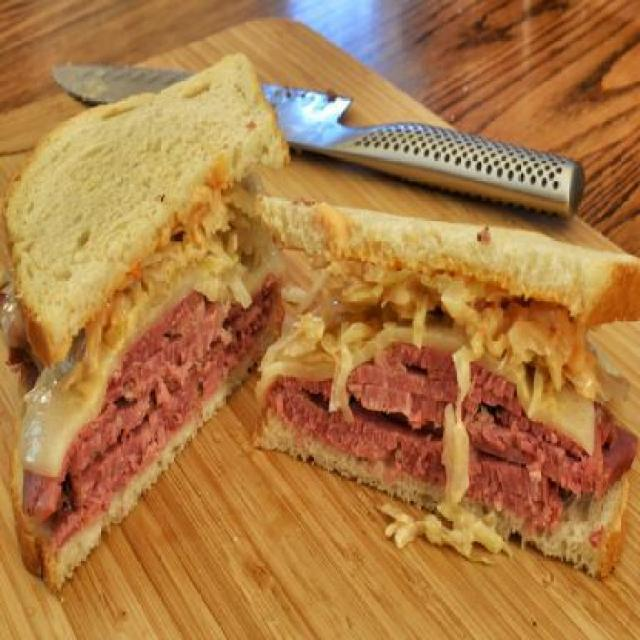Sandwich: (0, 46, 294, 594), (255, 187, 639, 564)
